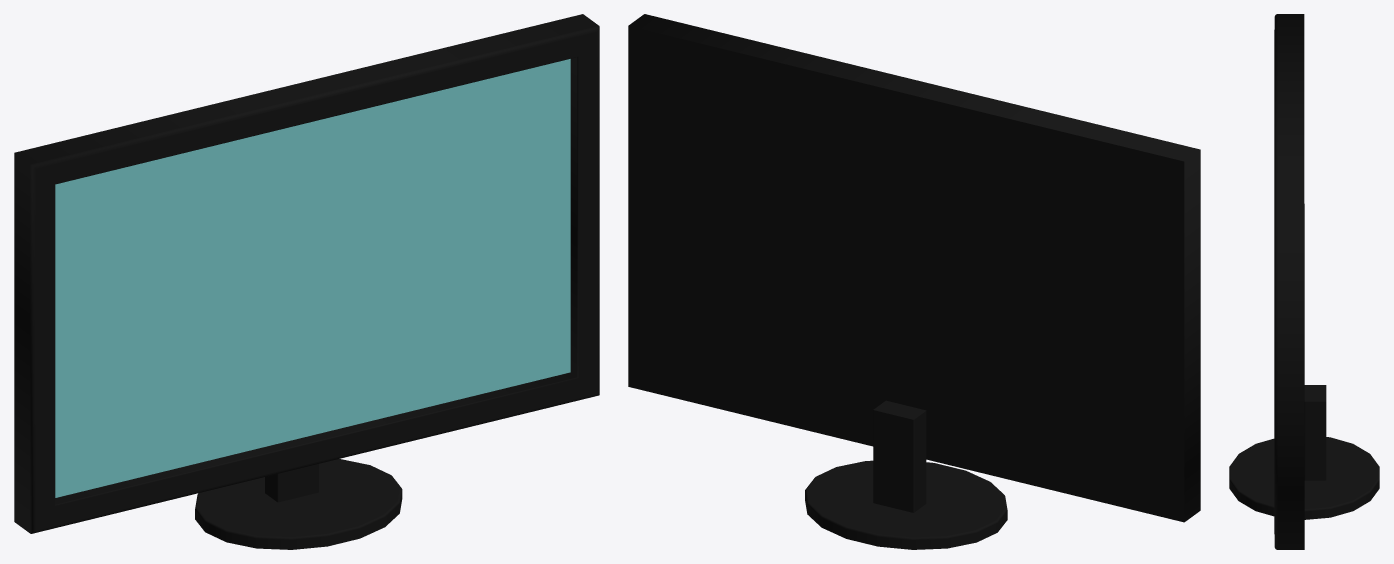
File: monitor.fbx
3 renders of one model, left to right at view 1: azimuth 30°, elevation 25°; view 2: azimuth 150°, elevation 25°; view 3: azimuth 270°, elevation 25°, orthographic. The views are drawn at different scales.
Visible parts, largest first — view 1: monitor; view 2: monitor; view 3: monitor.
Boxes of the visible parts, x1=… form: monitor: x1=14, y1=14, x2=599, y2=549; monitor: x1=628, y1=14, x2=1200, y2=549; monitor: x1=1229, y1=14, x2=1379, y2=549.
Size of the model in its own units: 51.49 by 36.85 by 14.2.
